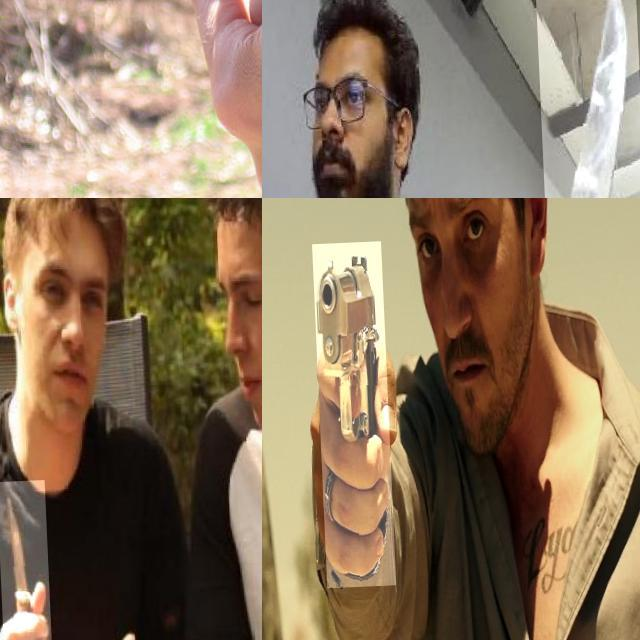-: (532, 0, 640, 198), (0, 481, 47, 640)
gun-knife-thesis - v11 Yolov5 augmented: (37, 0, 262, 157), (310, 244, 391, 591)
